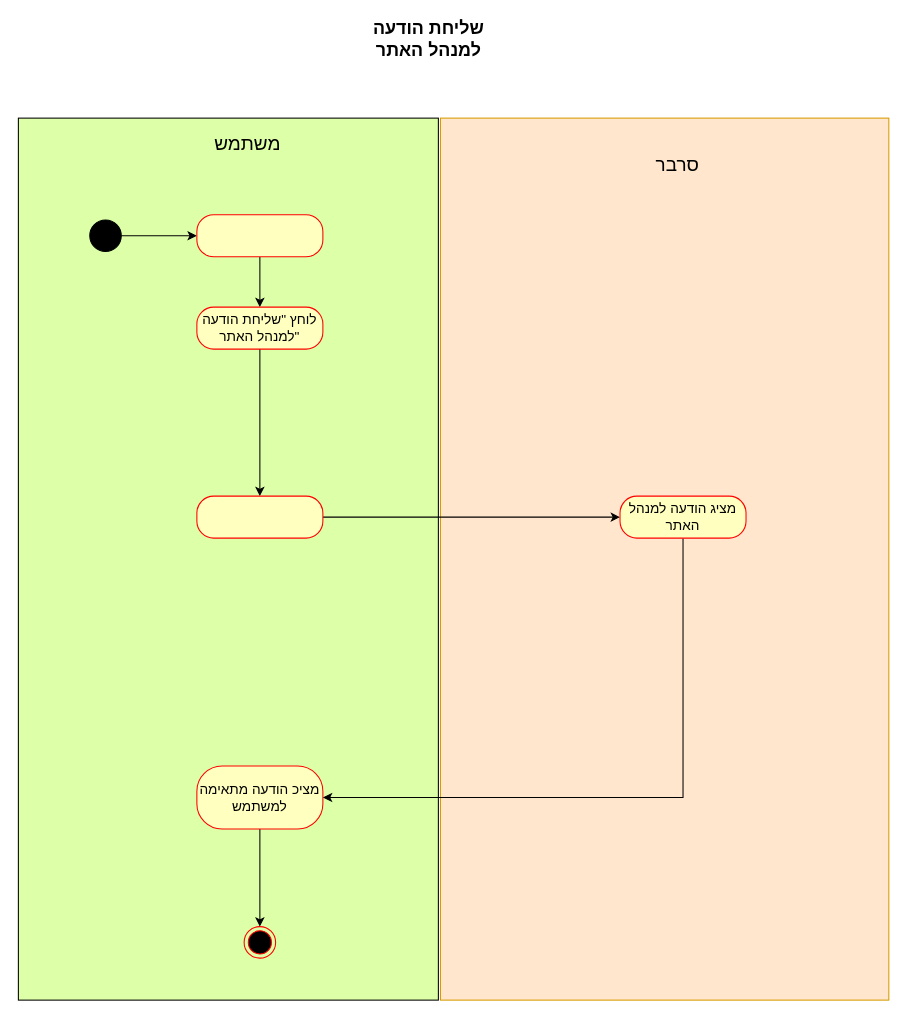
Image size: 907x1018. Some labels were removed from this diagram. The shapes that lost their labels are listed below. From the top down, each one's centre as x and y in pixels, then its label:
the point at 259,235: נכנס לאזור אישי
the point at 259,516: כותב הודעה ולוחץ שלח
